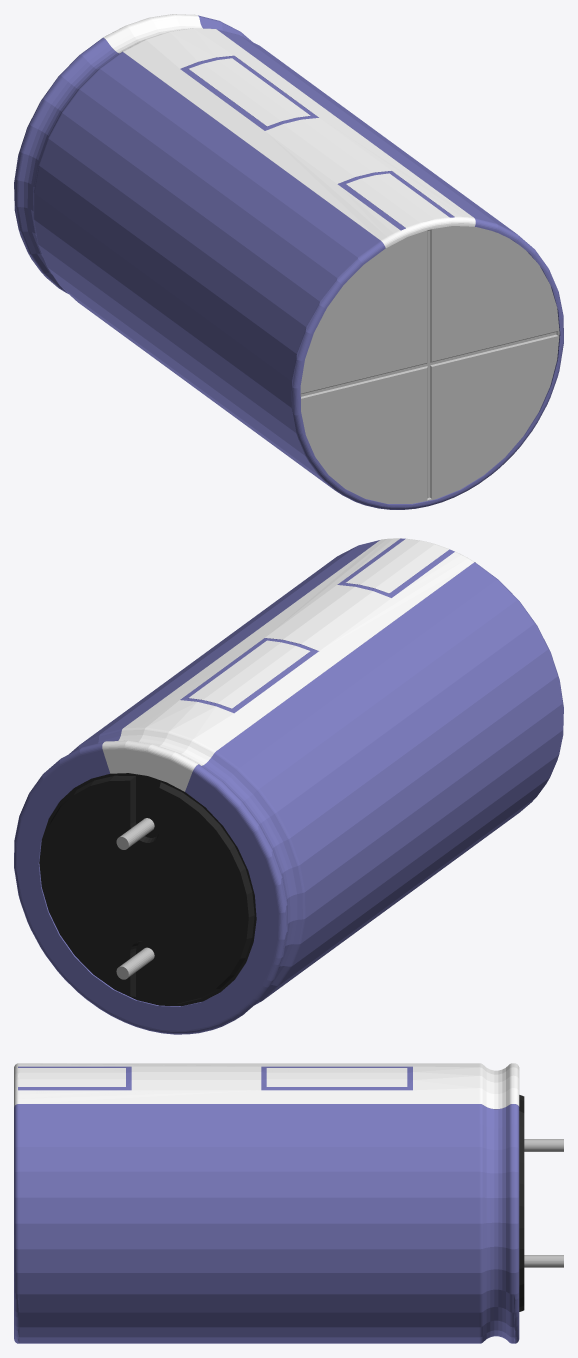
File: cap_el_d22_h40_pitch10_w1.obj
3 renders of one model, top to bottom at view 1: azimuth 30°, elevation 25°; view 2: azimuth 150°, elevation 25°; view 3: azimuth 270°, elevation 25°, orthographic. The views are drawn at different scales.
Parts seen in each view (by area): view 1: cap_el_d22_h40_pitch10_w1; view 2: cap_el_d22_h40_pitch10_w1; view 3: cap_el_d22_h40_pitch10_w1.
Boxes of the visible parts, left/top/right/bottom form: cap_el_d22_h40_pitch10_w1: left=14, top=14, right=563, bottom=509; cap_el_d22_h40_pitch10_w1: left=14, top=538, right=563, bottom=1034; cap_el_d22_h40_pitch10_w1: left=14, top=1063, right=563, bottom=1343.
Bounding box in the file's own units: 0.0145 × 0.0145 × 0.0284.
